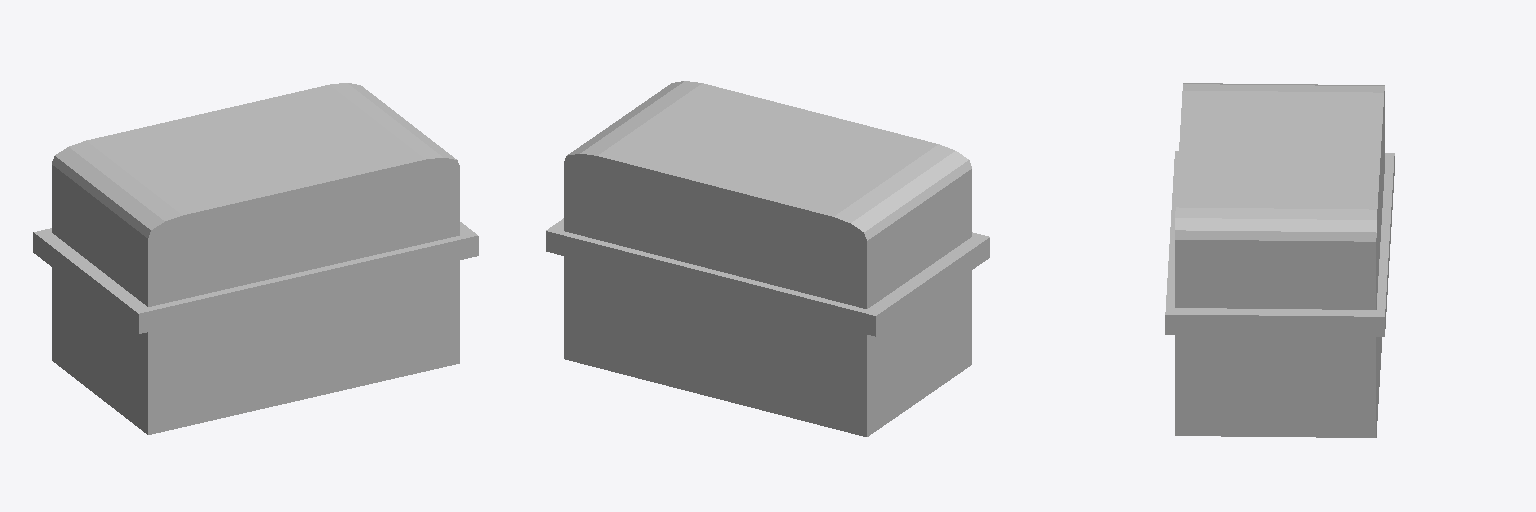
File: ExportedObj;Skyscraper_0.obj
3 views of the same model, side by side, from view 1: azimuth 30°, elevation 25°; view 2: azimuth 150°, elevation 25°; view 3: azimuth 270°, elevation 25° (orthographic).
Visible parts, largest first — view 1: Skyscraper; view 2: Skyscraper; view 3: Skyscraper.
Part boxes in pixels (bbox=[...]): Skyscraper: bbox=[33, 83, 478, 434]; Skyscraper: bbox=[546, 81, 989, 436]; Skyscraper: bbox=[1165, 83, 1394, 437].
Size of the model in its own units: 235 by 140 by 137.